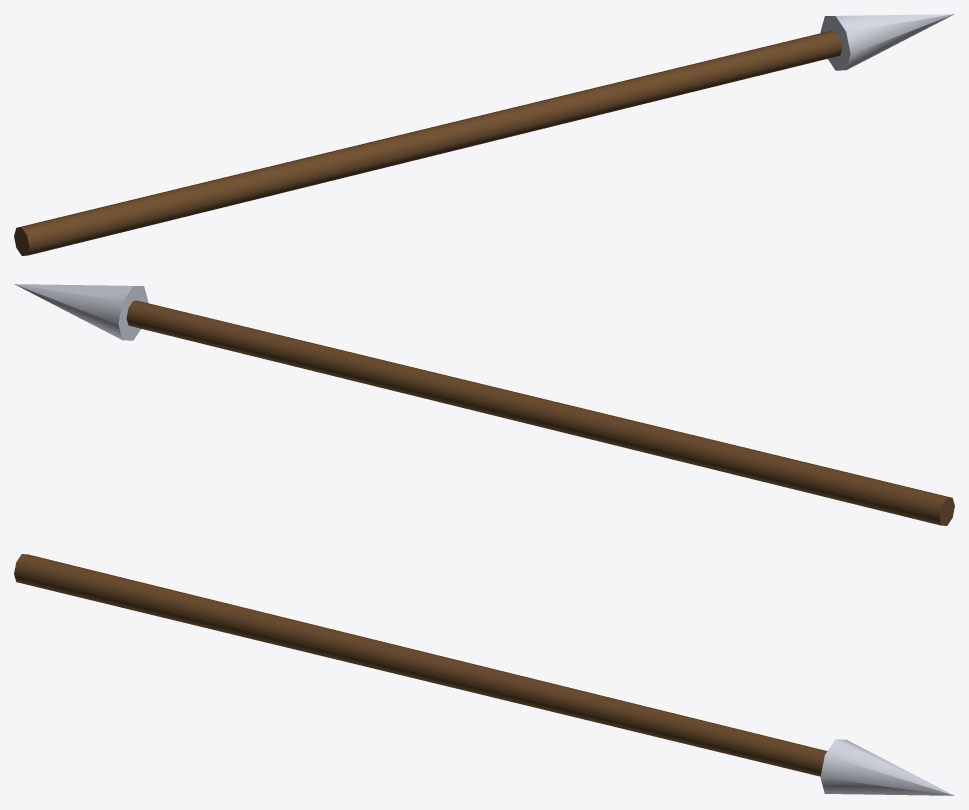
Rendered from spear.glb.
The picture shows the model from 3 angles, top to bottom: view 1: azimuth 30°, elevation 25°; view 2: azimuth 150°, elevation 25°; view 3: azimuth 330°, elevation 25°; orthographic projection.
Bounding box in the file's own units: 1.25 × 0.07 × 0.07.
